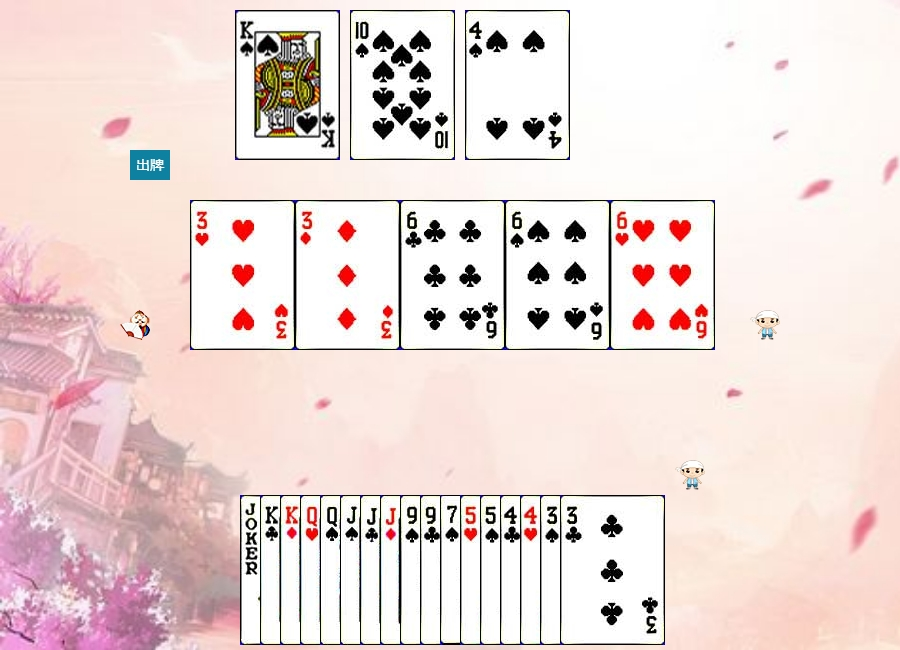10~4: (350, 10, 455, 160)
11~1: (380, 495, 485, 645)
11~2: (360, 495, 465, 645)
11~4: (340, 495, 445, 645)
12~3: (300, 495, 405, 645)
12~4: (320, 495, 425, 645)
13~1: (280, 495, 385, 645)
13~2: (260, 495, 365, 645)
13~4: (235, 10, 340, 160)
17~3: (240, 495, 345, 645)
3~1: (295, 200, 400, 350)
3~2: (560, 495, 665, 645)
3~3: (190, 200, 295, 350)
3~4: (540, 495, 645, 645)
4~2: (500, 495, 605, 645)
4~3: (520, 495, 625, 645)
4~4: (465, 10, 570, 160)
5~3: (460, 495, 565, 645)
5~4: (480, 495, 585, 645)
6~2: (400, 200, 505, 350)
6~3: (610, 200, 715, 350)
6~4: (505, 200, 610, 350)
7~4: (440, 495, 545, 645)
9~2: (420, 495, 525, 645)
9~4: (400, 495, 505, 645)
